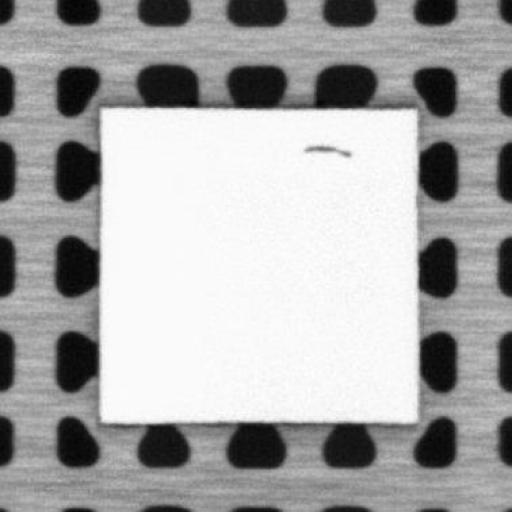DIE_INK: (300, 142, 350, 157)
